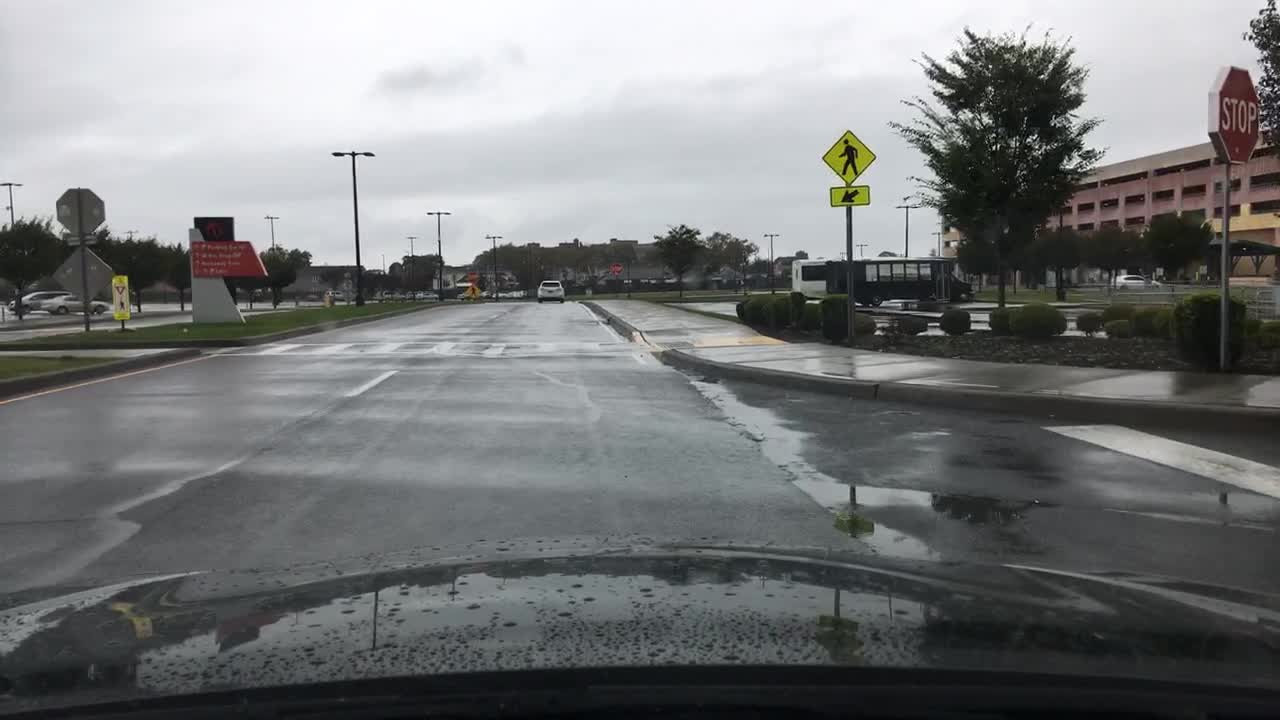bus: (825, 258, 974, 303), (790, 256, 938, 298)
car: (44, 292, 107, 312), (25, 289, 78, 311), (1107, 273, 1159, 290), (534, 278, 563, 304), (377, 289, 405, 301), (415, 289, 437, 301), (326, 289, 348, 300), (608, 260, 622, 275)
traffic sign: (821, 128, 875, 188), (55, 253, 109, 304), (55, 186, 106, 232), (829, 186, 870, 204), (65, 235, 96, 245)
